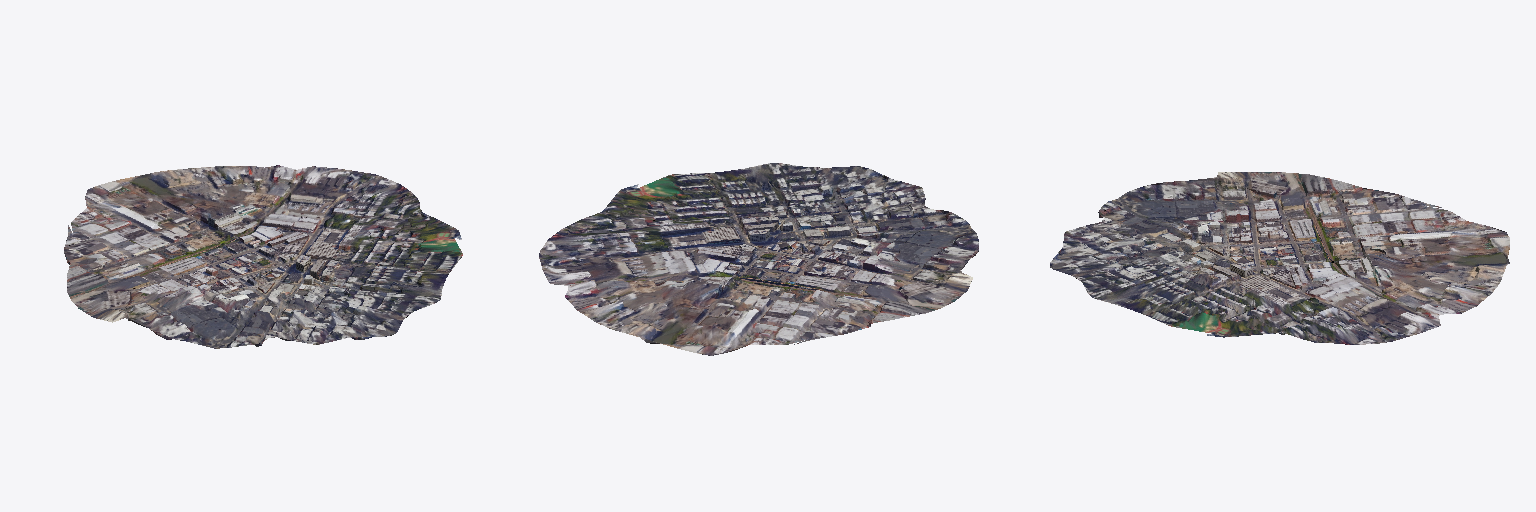
The picture shows the model from 3 angles: view 1: azimuth 30°, elevation 25°; view 2: azimuth 150°, elevation 25°; view 3: azimuth 270°, elevation 25°; orthographic projection.
Visible parts, largest first — view 1: elsewhere_Mesh; view 2: elsewhere_Mesh; view 3: elsewhere_Mesh.
Boxes of the visible parts, box(x1,y1,x2,y2) form: elsewhere_Mesh: box(64, 165, 462, 348); elsewhere_Mesh: box(539, 163, 978, 355); elsewhere_Mesh: box(1050, 172, 1509, 344).
Bounding box in the file's own units: 71.2 × 2.21 × 77.8.
Materials: 1 (1 with a texture image).